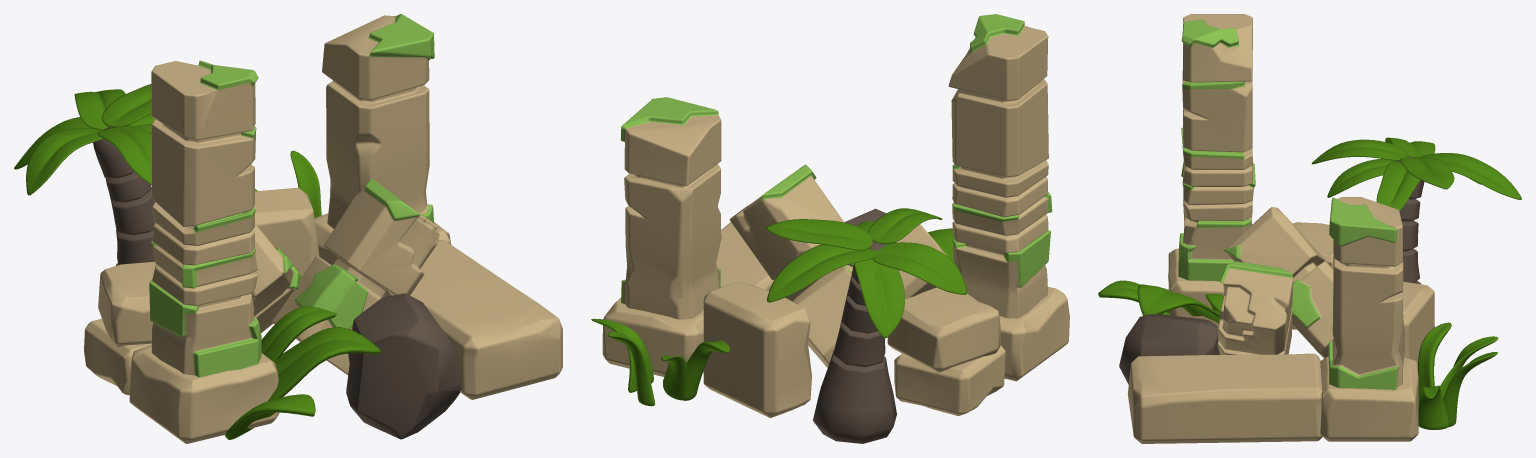
Rendered from Tile_Obstacle.fbx.
3 views of the same model, side by side, from view 1: azimuth 30°, elevation 25°; view 2: azimuth 150°, elevation 25°; view 3: azimuth 270°, elevation 25° (orthographic). The views are drawn at different scales.
Visible parts, largest first — view 1: Cube.030; view 2: Cube.030; view 3: Cube.030.
Part boxes in pixels (x1,y1,x2,y2): Cube.030: (14,14,562,443); Cube.030: (591,14,1069,443); Cube.030: (1098,14,1521,443).
Size of the model in its own units: 190 by 182 by 215.
Materials: 1 (1 with a texture image).
